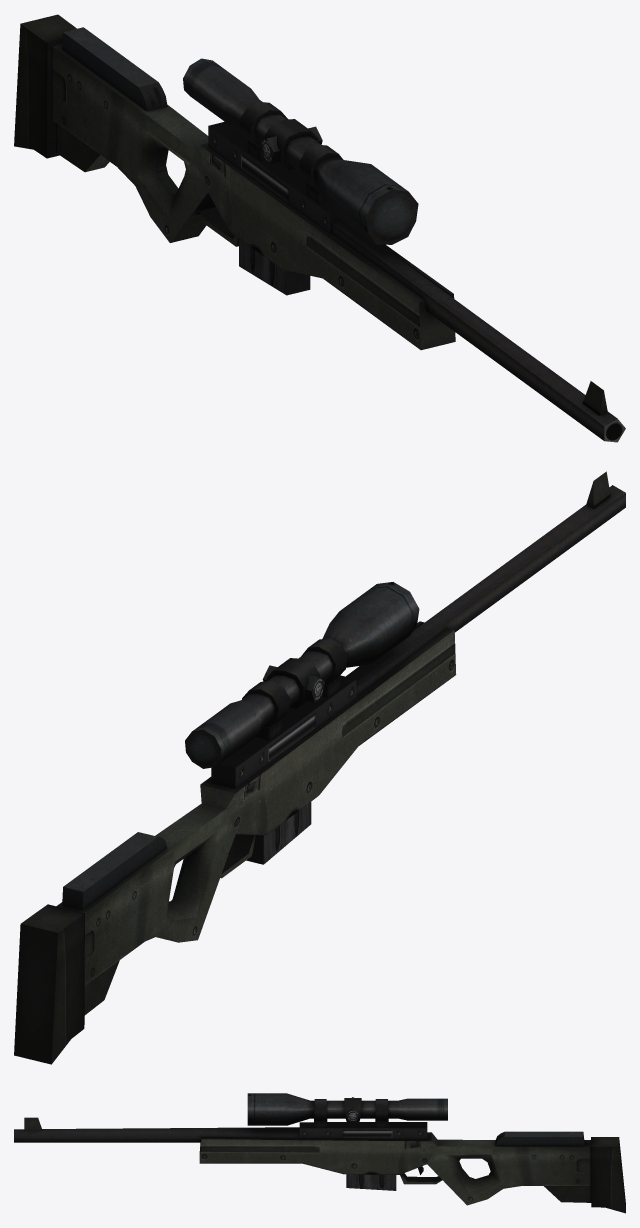
Rendered from cs-weapon-awp-counter-strike-source.glb.
3 views of the same model, one above another, from view 1: azimuth 30°, elevation 25°; view 2: azimuth 150°, elevation 25°; view 3: azimuth 270°, elevation 25° (orthographic). The views are drawn at different scales.
Size of the model in its own units: 2.71 by 10.64 by 51.92.
Materials: 1 (1 with a texture image).
